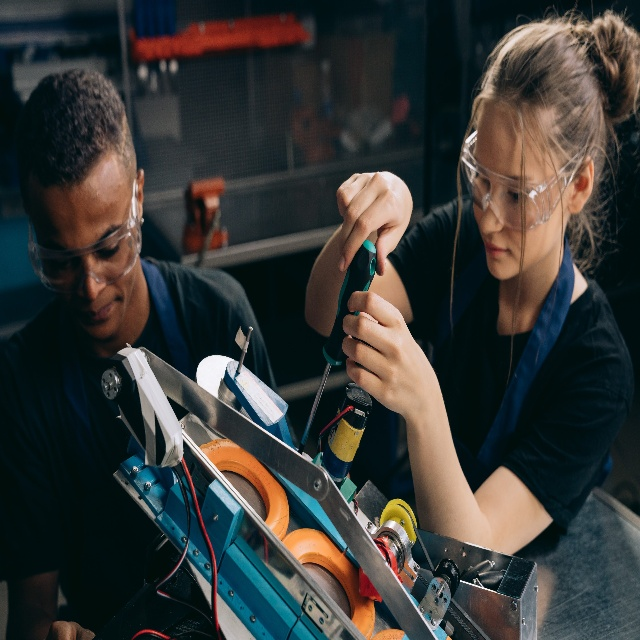Gafas: (26, 173, 140, 299), (464, 132, 585, 227)
Sin_guantes: (341, 286, 424, 424), (337, 157, 415, 275)
